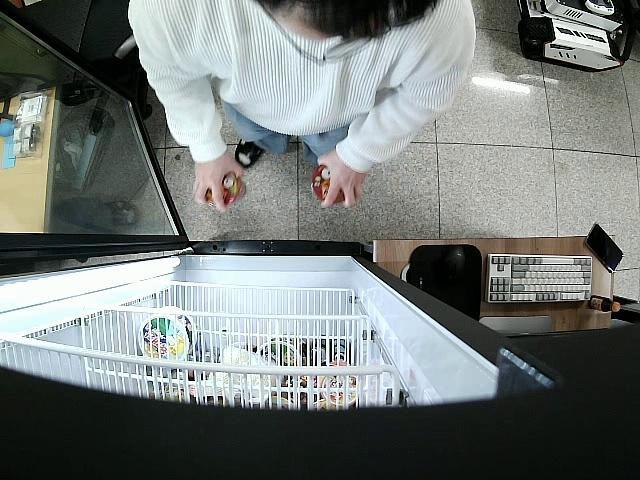06_nuguri_S: (205, 172, 248, 208), (310, 164, 347, 204)
